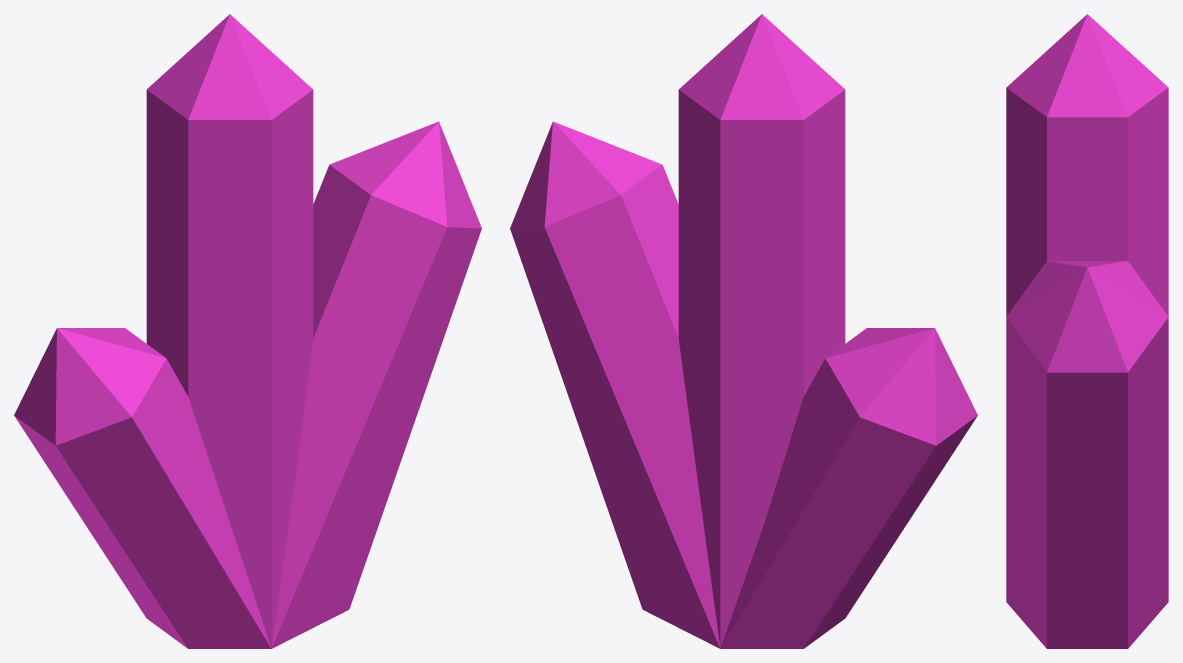
File: magenta_cave_crystal.obj
The picture shows the model from 3 angles, left to right: view 1: azimuth 30°, elevation 25°; view 2: azimuth 150°, elevation 25°; view 3: azimuth 270°, elevation 25°; orthographic projection. The views are drawn at different scales.
Parts seen in each view (by area): view 1: main; view 2: main; view 3: main.
Part boxes in pixels (left/top/right/bottom): main: left=14, top=14, right=481, bottom=648; main: left=510, top=14, right=977, bottom=648; main: left=1006, top=14, right=1168, bottom=648.
Size of the model in its own units: 0.7381 by 1 by 0.25.
